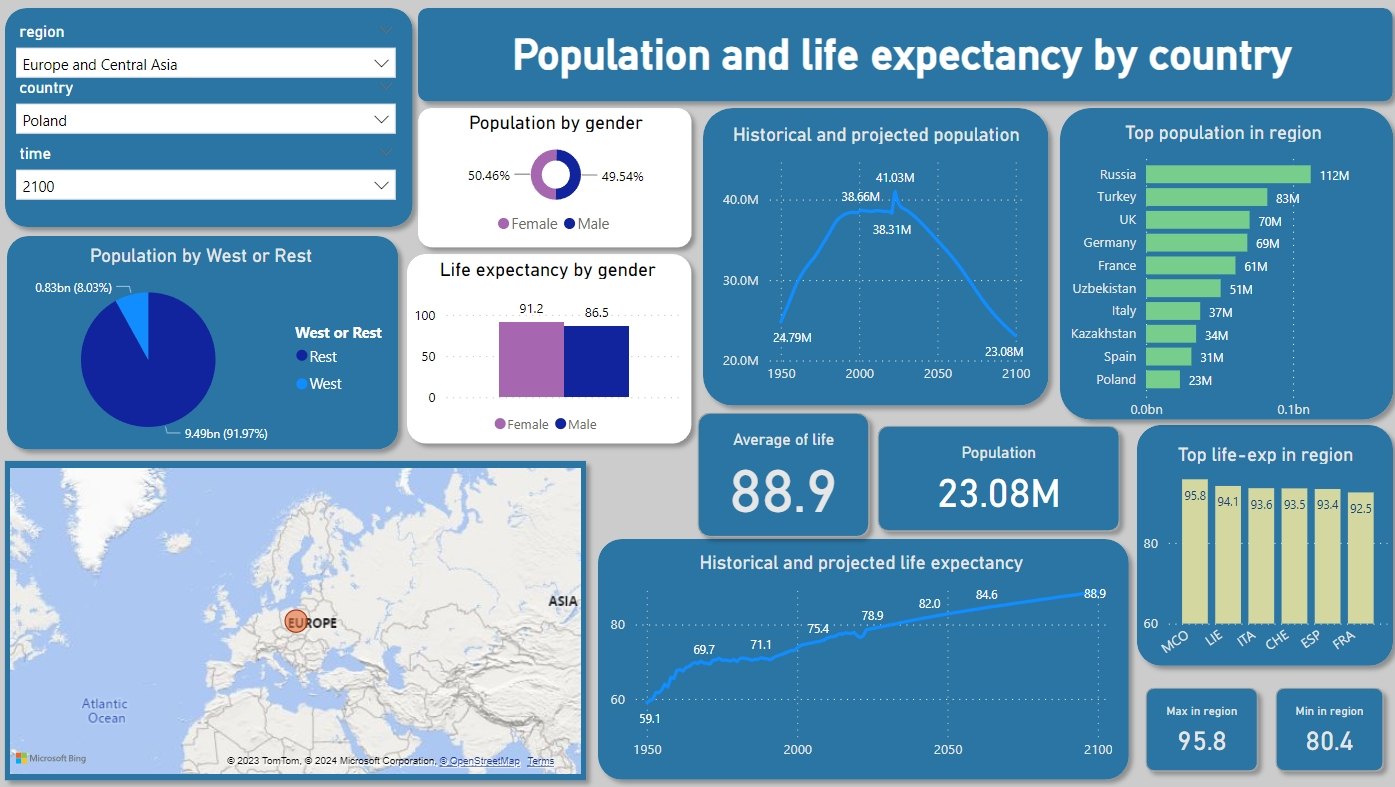

This screenshot's page, from the dashboard's own definition file:
{"tool":"powerbi","page":{"name":"Life Expectancy","canvas":[1280,720],"ordinal":0},"visuals":[{"type":"shape","box":[2,207.2,373.8,212.2],"z":0},{"type":"shape","box":[365.9,224.1,276.6,190.4],"z":1000},{"type":"shape","box":[375.8,91.2,266.7,144.8],"z":2000},{"type":"shape","box":[0,0,388.7,217.1],"z":3000},{"type":"shape","box":[0,411.5,546.3,308.4],"z":4000},{"type":"shape","box":[539.4,482.9,500.7,237],"z":5000},{"type":"shape","box":[375.8,0,904.2,103.1],"z":6000},{"type":"shape","box":[1029.2,378.7,250.8,237],"z":7000},{"type":"shape","box":[958.8,91.2,321.2,301.4],"z":8000},{"type":"barChart","title":"Top population in region","fields":{"Category":["countries.name"],"Y":["Sum(populations.all_pop)"]},"box":[966.7,112,300.4,280.6],"z":9000},{"type":"slicer","fields":{"Values":["populations.time"]},"box":[8.9,127.9,364.9,68.4],"z":10000},{"type":"map","title":"Population on the map","fields":{"Category":["countries.name"],"Series":["countries.region"],"Size":["Sum(populations.all_pop)"]},"box":[8.9,422.4,529.5,287.5],"z":11000},{"type":"cardVisual","fields":{"Data":["Min(populations.all_life)"]},"box":[1147.1,609.8,132.9,110.1],"z":12000},{"type":"slicer","fields":{"Values":["countries.region"]},"box":[8.9,16.9,364.9,68.4],"z":13000},{"type":"cardVisual","fields":{"Data":["Max(populations.all_life)"]},"box":[1029.2,609.8,136.8,110.1],"z":14000},{"type":"pieChart","fields":{"Category":["countries.west_and_rest"],"Y":["Sum(populations.all_pop)"]},"box":[1,224.1,372.8,191.4],"z":15000},{"type":"slicer","fields":{"Values":["countries.name"]},"box":[8.9,68.4,364.9,68.4],"z":16000},{"type":"cardVisual","fields":{"Data":["Avg(populations.all_life)"]},"box":[621.7,359.9,190.4,147.7],"z":17000},{"type":"donutChart","title":"Population by gender","fields":{"Y":["Sum(populations.female_pop)","Sum(populations.male_pop)"]},"box":[347,103.1,325.2,121],"z":18000},{"type":"lineChart","title":"Historical and projected life expectancy","fields":{"Y":["Avg(populations.all_life)"],"Category":["populations.time"]},"box":[554.2,502.7,466,198.3],"z":19000},{"type":"clusteredColumnChart","title":"Life expectancy by gender","fields":{"Y":["Avg(populations.female_life)","Avg(populations.male_life)"]},"box":[375.8,236,253.8,168.6],"z":20000},{"type":"textbox","box":[388.7,23.8,871.5,67.4],"z":21000},{"type":"columnChart","title":"Top life-exp in region ","fields":{"Category":["countries.geo"],"Y":["Avg(populations.all_life)"]},"box":[1039.1,404.5,232,213.2],"z":22000},{"type":"cardVisual","fields":{"Data":["Sum(populations.all_pop)"]},"box":[785.3,371.8,254.8,130.9],"z":23000},{"type":"shape","box":[634.5,91.2,332.1,288.5],"z":24000},{"type":"lineChart","title":"Historical and projected population","fields":{"Y":["Sum(populations.all_pop)"],"Category":["populations.time"]},"box":[656.4,114,289.5,245.9],"z":25000}]}

Visuals, with their boxes in screenshot pixels (x1, y1, x2, y2), scaled from the page's 1280x720 canvas onto the 1395x787 screenshot:
shape: [2, 226, 410, 458]
shape: [399, 245, 700, 453]
shape: [410, 100, 700, 258]
shape: [0, 0, 424, 237]
shape: [0, 450, 595, 786]
shape: [588, 528, 1134, 786]
shape: [410, 0, 1394, 113]
shape: [1122, 414, 1394, 673]
shape: [1045, 100, 1394, 429]
"Top population in region" barChart: [1054, 122, 1381, 429]
slicer - populations.time: [10, 140, 407, 215]
"Population on the map" map: [10, 462, 587, 776]
cardVisual - Min(populations.all_life): [1250, 667, 1394, 786]
slicer - countries.region: [10, 18, 407, 93]
cardVisual - Max(populations.all_life): [1122, 667, 1271, 786]
pieChart - countries.west_and_rest x Sum(populations.all_pop): [1, 245, 407, 454]
slicer - countries.name: [10, 75, 407, 150]
cardVisual - Avg(populations.all_life): [678, 393, 885, 555]
"Population by gender" donutChart: [378, 113, 733, 245]
"Historical and projected life expectancy" lineChart: [604, 549, 1112, 766]
"Life expectancy by gender" clusteredColumnChart: [410, 258, 686, 442]
textbox: [424, 26, 1373, 100]
"Top life-exp in region " columnChart: [1132, 442, 1385, 675]
cardVisual - Sum(populations.all_pop): [856, 406, 1134, 549]
shape: [692, 100, 1053, 415]
"Historical and projected population" lineChart: [715, 125, 1031, 393]
